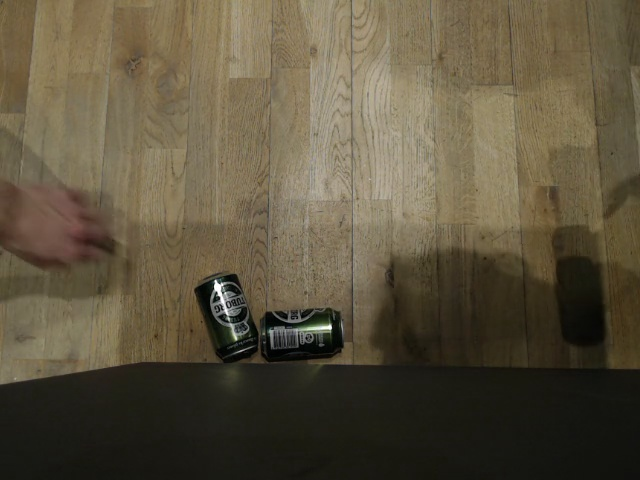beer: (190, 269, 258, 362), (260, 305, 343, 362)
